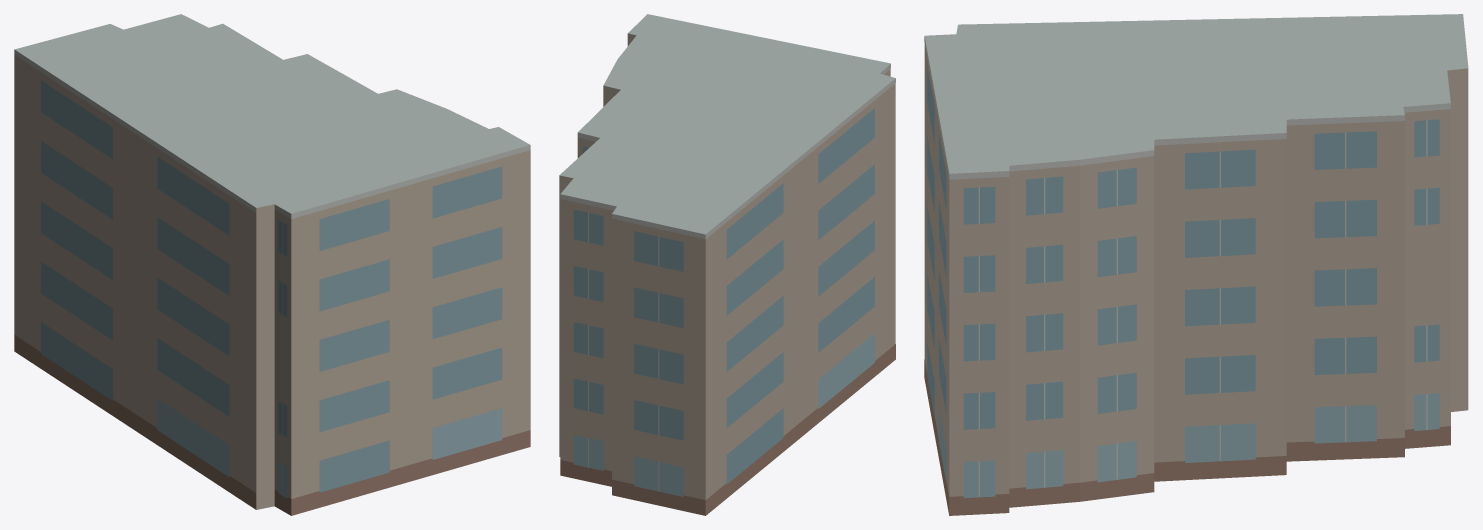
File: survey-upis-32894791.glb
3 renders of one model, left to right at view 1: azimuth 30°, elevation 25°; view 2: azimuth 150°, elevation 25°; view 3: azimuth 270°, elevation 25°, orthographic. The views are drawn at different scales.
Visible parts, largest first — view 1: survey-upis-32894791.tmp; view 2: survey-upis-32894791.tmp; view 3: survey-upis-32894791.tmp.
Boxes of the visible parts, x1,y1,x2,y2 form: survey-upis-32894791.tmp: (14, 14, 530, 515); survey-upis-32894791.tmp: (559, 14, 895, 515); survey-upis-32894791.tmp: (924, 14, 1468, 515).
Bounding box in the file's own units: 14.2 × 14.15 × 20.41.
